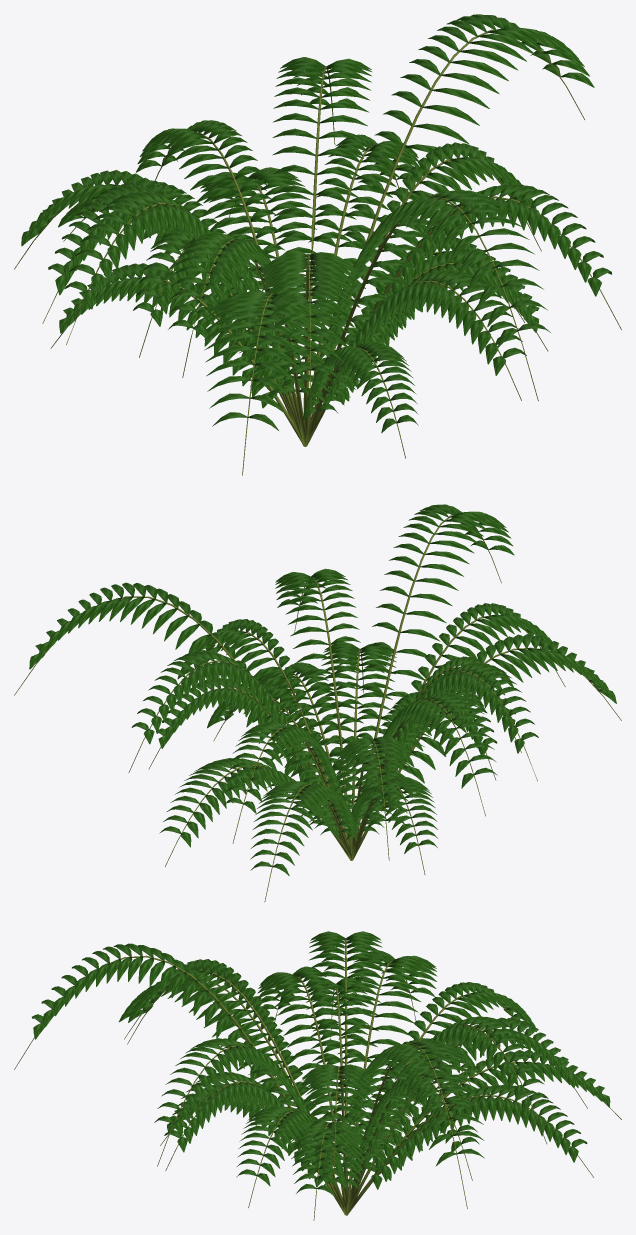
The model's file is KL_LS_Fern_Clump.gltf.
3 renders of one model, top to bottom at view 1: azimuth 30°, elevation 25°; view 2: azimuth 150°, elevation 25°; view 3: azimuth 270°, elevation 25°, orthographic. The views are drawn at different scales.
Visible parts, largest first — view 1: TF3_KL_LS_Fern_Clump; view 2: TF3_KL_LS_Fern_Clump; view 3: TF3_KL_LS_Fern_Clump.
Boxes of the visible parts, left/top/right/bottom form: TF3_KL_LS_Fern_Clump: left=14, top=14, right=621, bottom=475; TF3_KL_LS_Fern_Clump: left=14, top=504, right=621, bottom=902; TF3_KL_LS_Fern_Clump: left=14, top=931, right=621, bottom=1220.
Size of the model in its own units: 1.43 by 0.7842 by 1.62.
2 materials, 1 textured.
